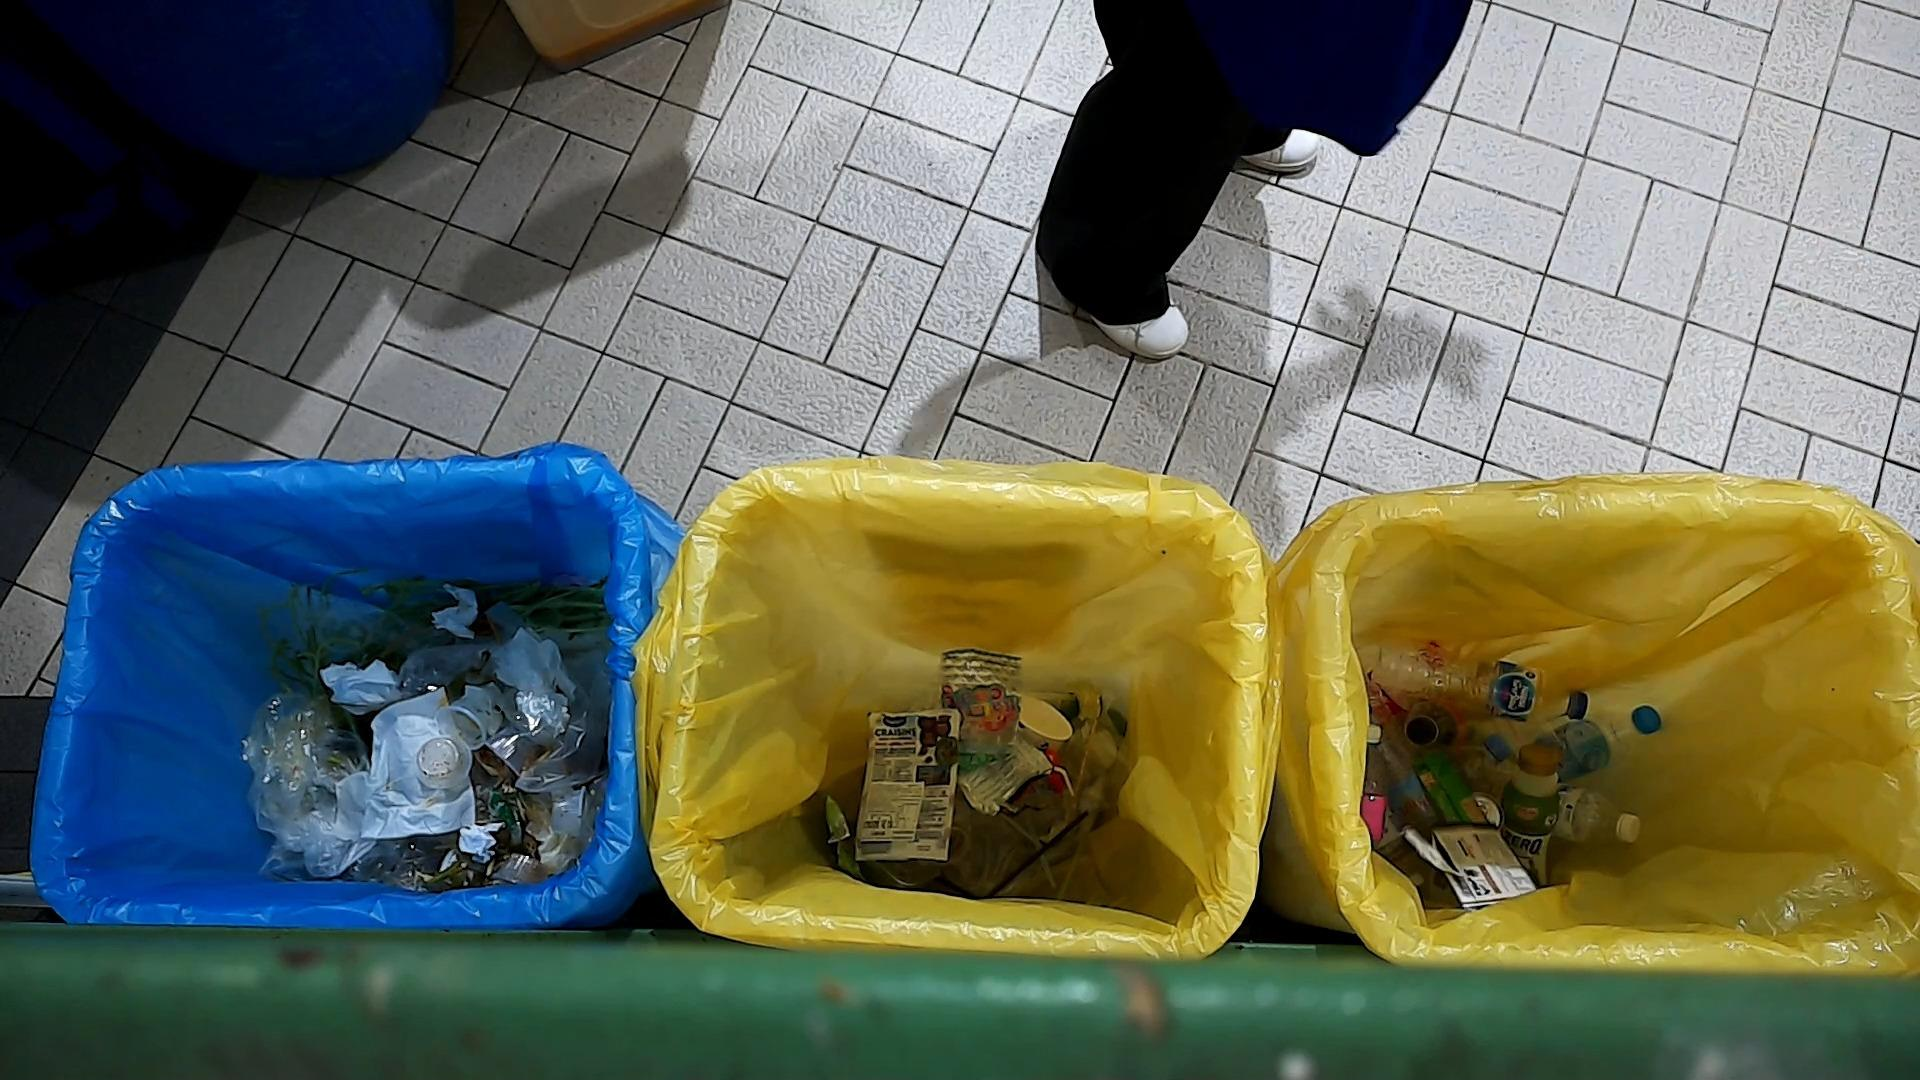food container: (430, 695, 502, 752), (414, 736, 475, 791), (550, 782, 593, 840)
plastic bag: (240, 712, 376, 880)
plastic bottle: (1367, 633, 1589, 727), (1370, 731, 1465, 864), (1527, 700, 1665, 782), (1506, 744, 1567, 848)
snack packaging: (851, 707, 969, 873), (936, 644, 1033, 775), (1414, 825, 1534, 909), (1412, 745, 1482, 831)
straw: (978, 804, 1089, 902)
tissue paper: (357, 688, 479, 837), (491, 626, 575, 703), (319, 658, 404, 715), (430, 582, 480, 640), (458, 825, 497, 858)
